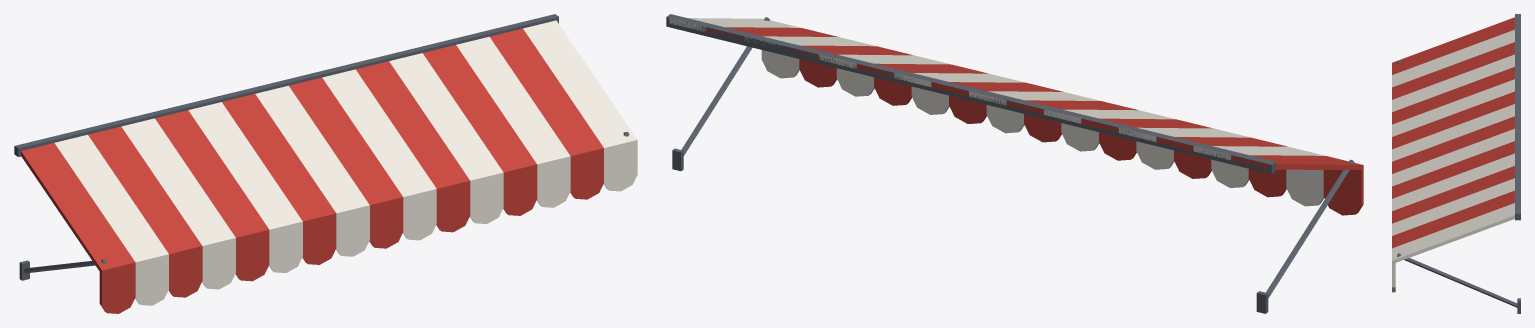
The model's file is awning.glb.
3 renders of one model, left to right at view 1: azimuth 30°, elevation 25°; view 2: azimuth 150°, elevation 25°; view 3: azimuth 270°, elevation 25°, orthographic. The views are drawn at different scales.
Parts seen in each view (by area): view 1: awning; view 2: awning; view 3: awning.
Boxes of the visible parts, x1,y1,x2,y2 form: awning: (14, 14, 637, 313); awning: (666, 14, 1363, 313); awning: (1392, 14, 1520, 313).
Size of the model in its own units: 4.04 by 0.96 by 1.1.
